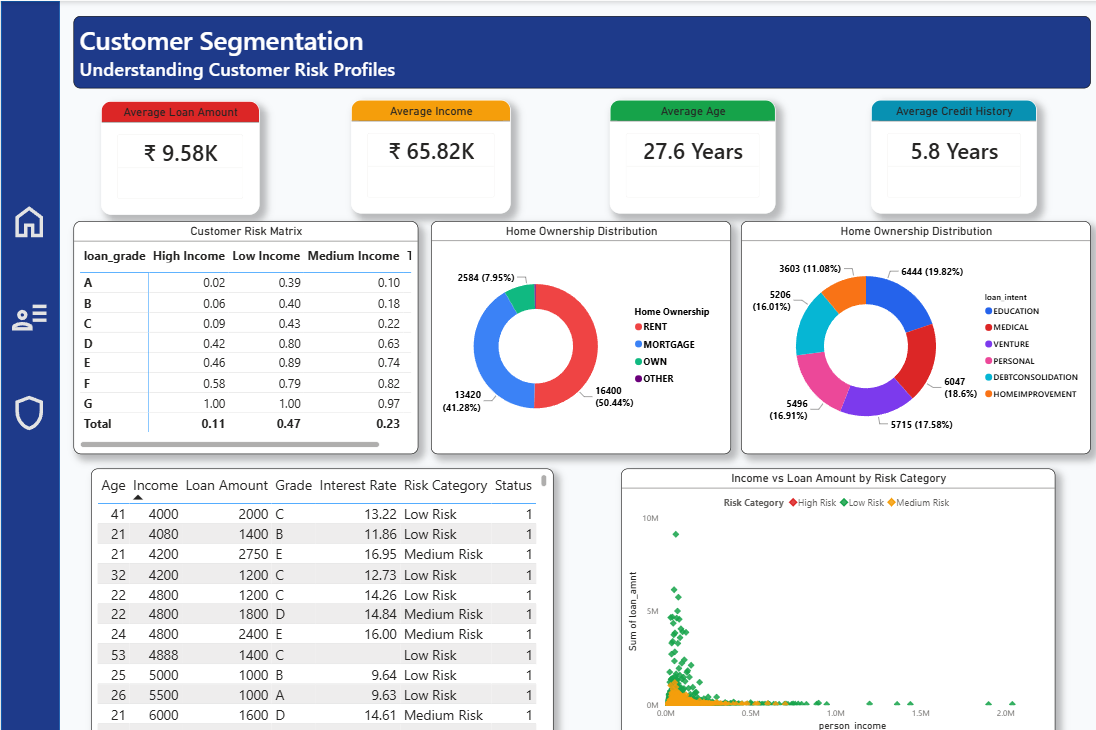

This screenshot's page, from the dashboard's own definition file:
{"tool":"powerbi","page":{"name":"Customer Segmentation","canvas":[1600,1080],"ordinal":2},"visuals":[{"type":"shape","box":[0,0,85,1079.5],"z":0},{"type":"image","box":[10.9,289.8,60,60],"z":1000},{"type":"image","box":[10.9,427.5,60,60],"z":2000},{"type":"image","box":[10.9,566.9,60,60],"z":3000},{"type":"textbox","box":[105.1,21.7,1472.6,105.1],"z":4000},{"type":"cardVisual","title":"Average Loan Amount","fields":{"Data":["credit_risk_dataset.Average Loan Amount"]},"box":[144.9,144.9,229.3,165.1],"z":5000},{"type":"cardVisual","title":"Average Income","fields":{"Data":["credit_risk_dataset.Average Customer Income"]},"box":[506.3,143.1,231.1,165.1],"z":6000},{"type":"cardVisual","title":"Average Age","fields":{"Data":["credit_risk_dataset.Average Age Display"]},"box":[880.4,143.1,240.3,165.1],"z":7000},{"type":"cardVisual","title":"Average Credit History","fields":{"Data":["credit_risk_dataset.Average Credit History"]},"box":[1260.1,143.1,240.3,165.1],"z":8000},{"type":"pivotTable","title":"Customer Risk Matrix","fields":{"Rows":["credit_risk_dataset.loan_grade"],"Columns":["credit_risk_dataset.Income Group"],"Values":["credit_risk_dataset.Default Rate %"]},"box":[104.6,319.2,498.9,337.5],"z":9000},{"type":"scatterChart","title":"Income vs Loan Amount by Risk Category","fields":{"X":["credit_risk_dataset.person_income"],"Y":["Sum(credit_risk_dataset.loan_amnt)"],"Series":["credit_risk_dataset.Risk Category"]},"box":[896.9,676.8,629.1,388.9],"z":10000},{"type":"donutChart","title":"Home Ownership Distribution","fields":{"Category":["credit_risk_dataset.person_home_ownership"],"Y":["CountNonNull(credit_risk_dataset.person_age)"]},"box":[621.8,319.2,434.7,337.5],"z":11000},{"type":"donutChart","title":"Home Ownership Distribution","fields":{"Category":["credit_risk_dataset.loan_intent"],"Y":["credit_risk_dataset.Total Applications"]},"box":[1071.2,319.2,506.3,337.5],"z":12000},{"type":"tableEx","fields":{"Values":["credit_risk_dataset.person_age","credit_risk_dataset.person_income","credit_risk_dataset.loan_amnt","credit_risk_dataset.loan_grade","credit_risk_dataset.loan_int_rate","credit_risk_dataset.Risk Category","credit_risk_dataset.loan_status"]},"box":[130.2,676.8,669.5,388.9],"z":13000}]}

Visuals, with their boxes on the page's 1600x1080 design canvas (x1, y1, x2, y2). These are canvas units, not pixel positions in the 1096x730 screenshot, which may show the page scaled, cropped or inside an application window:
shape: Rect(0, 0, 85, 1080)
image: Rect(11, 290, 71, 350)
image: Rect(11, 428, 71, 488)
image: Rect(11, 567, 71, 627)
textbox: Rect(105, 22, 1578, 127)
"Average Loan Amount" cardVisual: Rect(145, 145, 374, 310)
"Average Income" cardVisual: Rect(506, 143, 737, 308)
"Average Age" cardVisual: Rect(880, 143, 1121, 308)
"Average Credit History" cardVisual: Rect(1260, 143, 1500, 308)
"Customer Risk Matrix" pivotTable: Rect(105, 319, 604, 657)
"Income vs Loan Amount by Risk Category" scatterChart: Rect(897, 677, 1526, 1066)
"Home Ownership Distribution" donutChart: Rect(622, 319, 1056, 657)
"Home Ownership Distribution" donutChart: Rect(1071, 319, 1578, 657)
tableEx - credit_risk_dataset.person_age x credit_risk_dataset.person_income: Rect(130, 677, 800, 1066)
